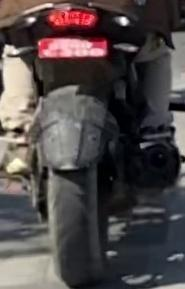license-plate: (35, 32, 112, 59)
